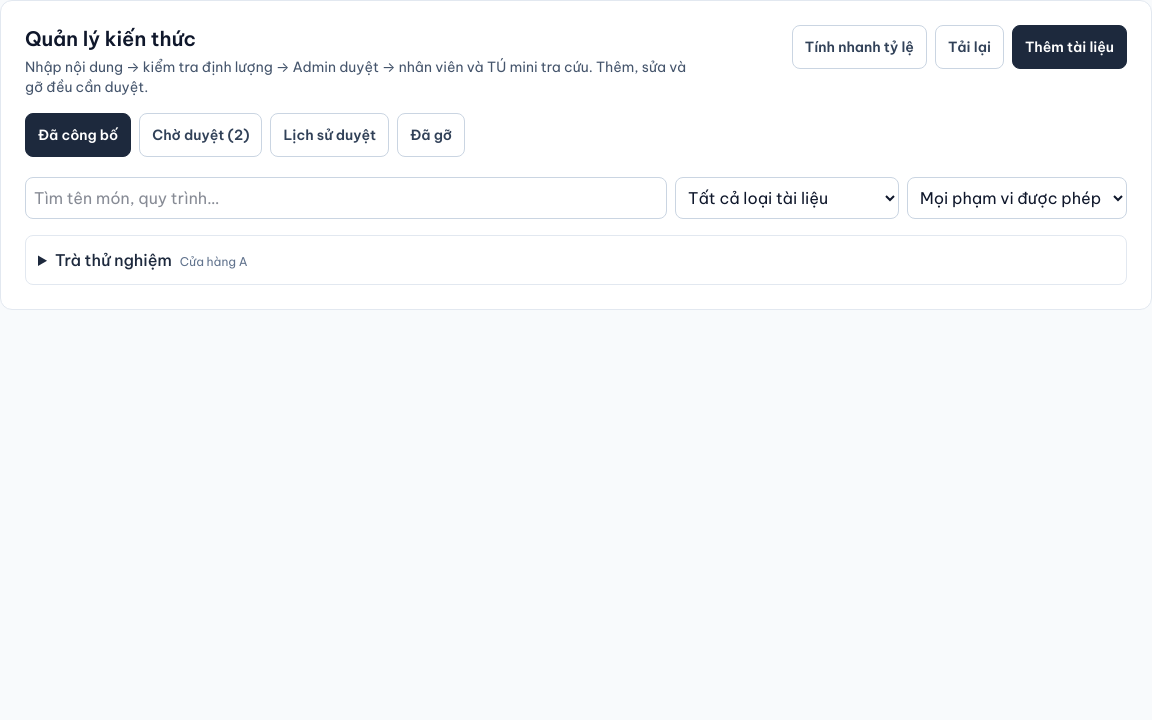
Test case: bulk approval reports partial failures and refreshes without retrying successes
Click the button "Chờ duyệt (2)" at x=201, y=135, box [139,113,262,157]
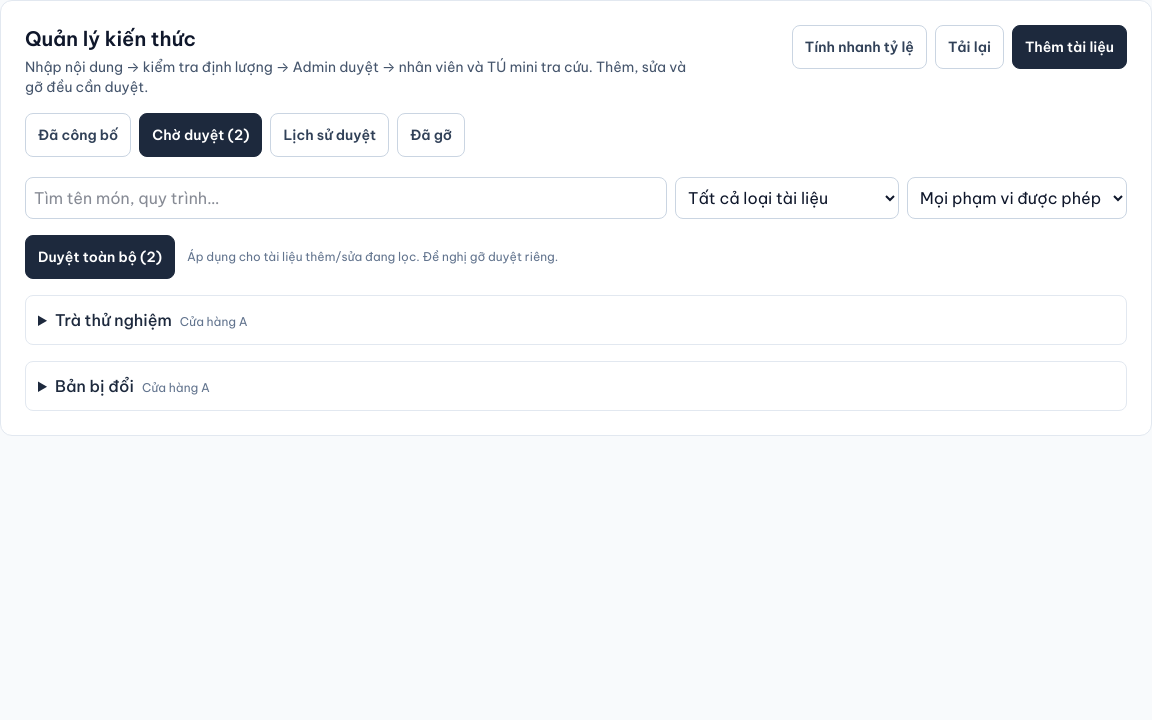
Expected: the button "Duyệt toàn bộ (2)" is shown
Click the button "Duyệt toàn bộ (2)" at x=100, y=257, box [25,235,175,279]
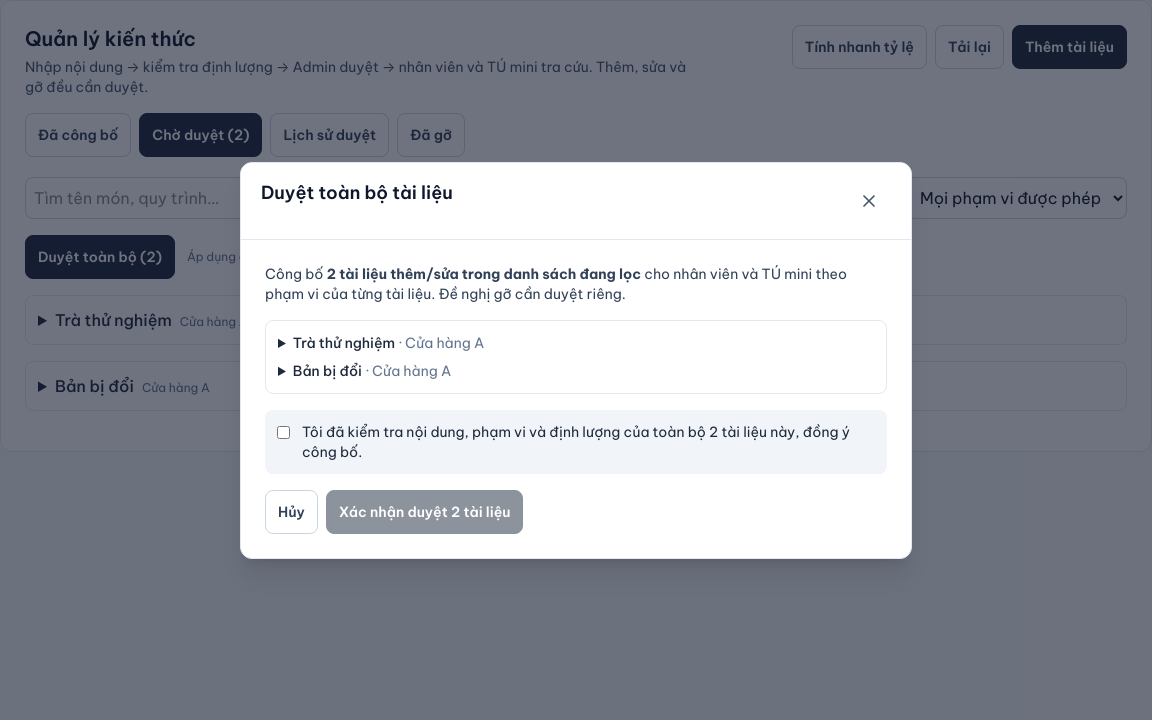
Expected: the checkbox is shown
Click the checkbox at x=284, y=432, box [277,426,290,438]
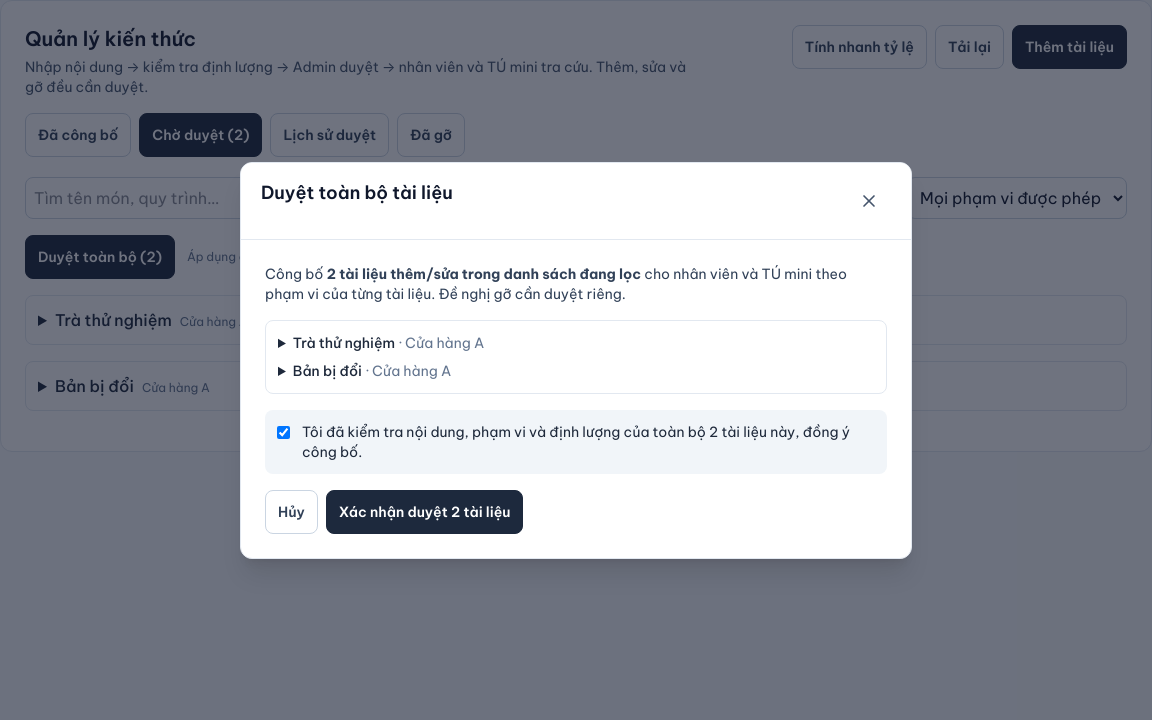
Expected: the button "Xác nhận duyệt 2 tài liệu" is shown
Click the button "Xác nhận duyệt 2 tài liệu" at x=425, y=512, box [326,490,524,534]
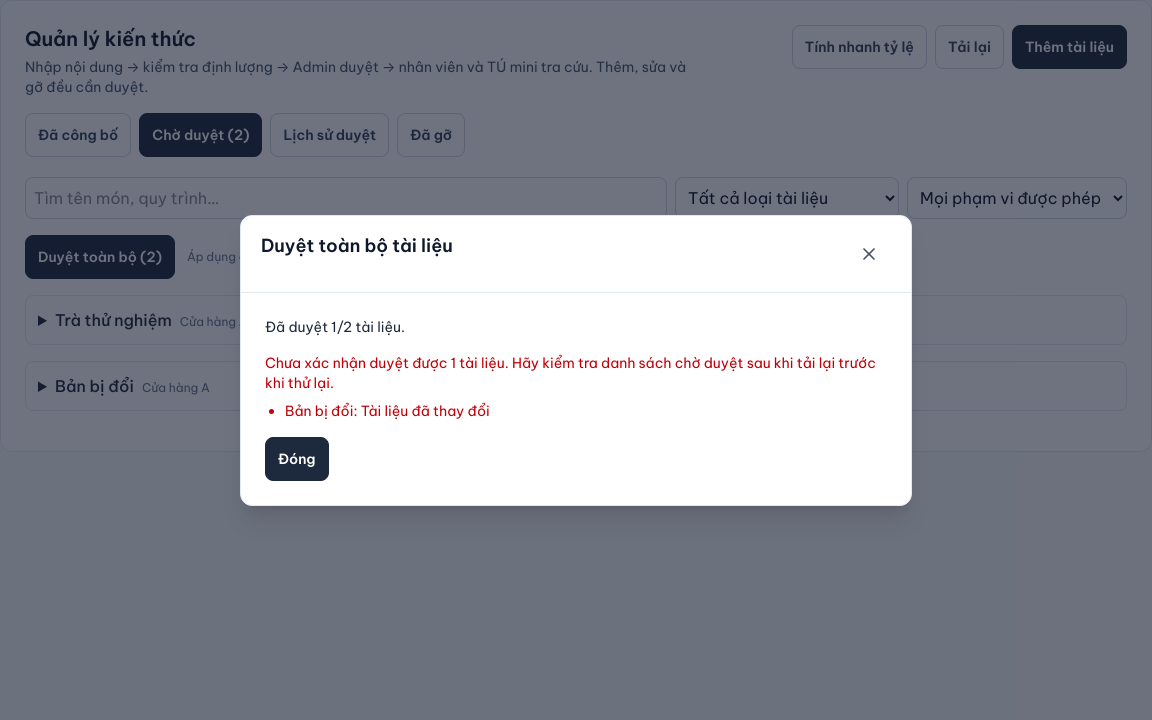
Expected: the dialog shows "Đã duyệt 1/2", [240,214,912,506]
Expected: the dialog shows "Bản bị đổi: Tài liệu đã thay đổi", [240,214,912,506]
